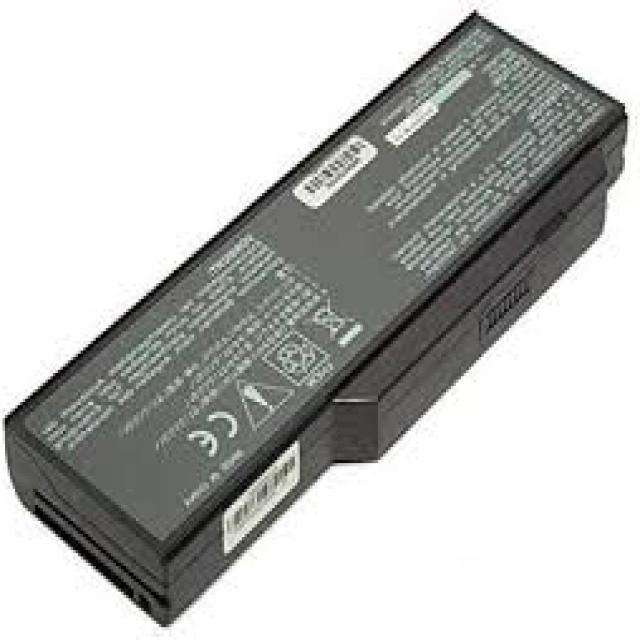battery: (6, 9, 632, 630)
